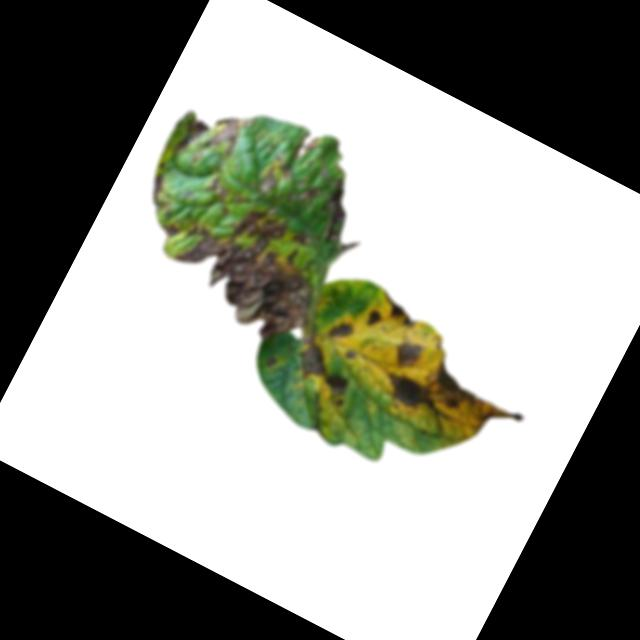Early_blight: (155, 176, 345, 352), (375, 343, 529, 465), (283, 336, 363, 410), (306, 175, 364, 244), (200, 102, 255, 162), (139, 159, 188, 217), (249, 151, 296, 204), (370, 288, 422, 331), (167, 113, 210, 163), (389, 332, 428, 374), (288, 173, 324, 211), (323, 313, 358, 348), (291, 128, 321, 163), (156, 217, 181, 240), (259, 351, 280, 374), (365, 306, 385, 329), (343, 347, 359, 362)
